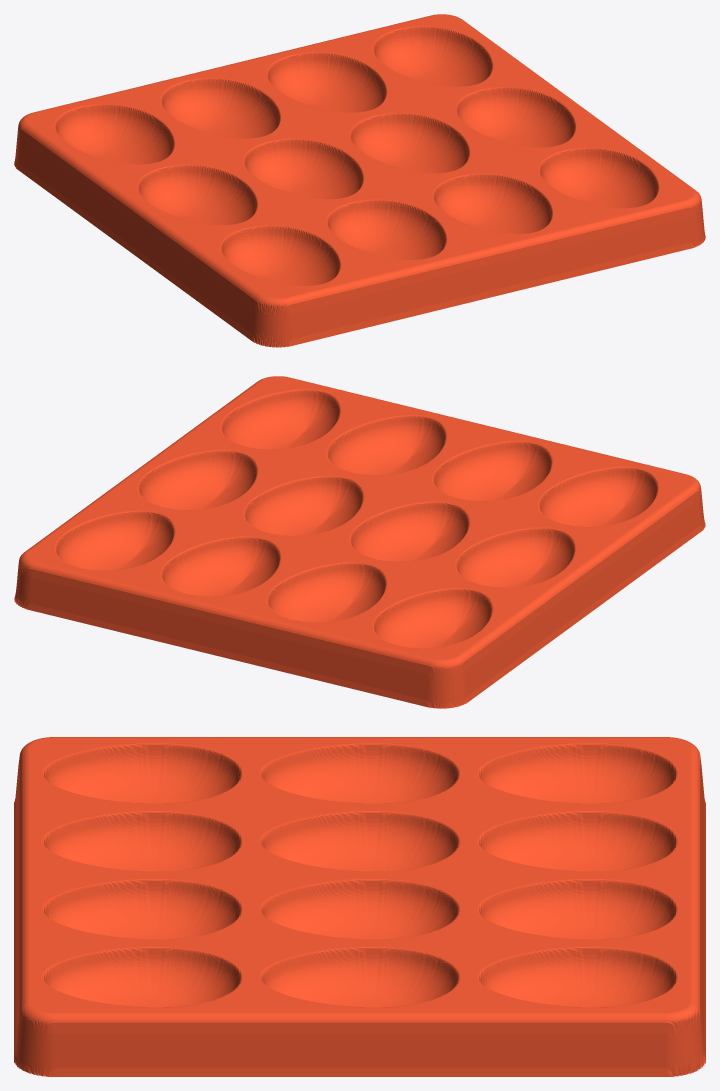
The model's file is mold.glb.
3 views of the same model, one above another, from view 1: azimuth 30°, elevation 25°; view 2: azimuth 150°, elevation 25°; view 3: azimuth 270°, elevation 25° (orthographic). The views are drawn at different scales.
Parts seen in each view (by area): view 1: geometry_0; view 2: geometry_0; view 3: geometry_0.
Part boxes in pixels (box(x1,y1,x2,y2)): geometry_0: box(14, 14, 705, 347); geometry_0: box(14, 376, 705, 708); geometry_0: box(14, 737, 705, 1076).
Size of the model in its own units: 0.1551 by 0.0145 by 0.1575.
